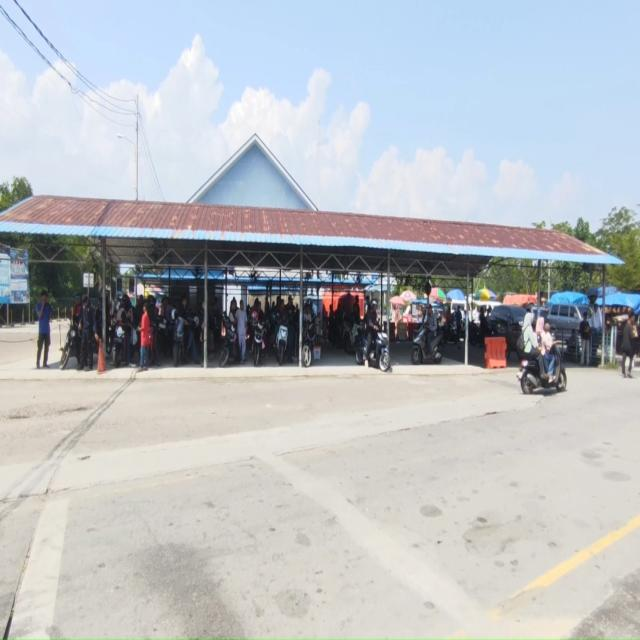Golongan II: (516, 344, 567, 395), (356, 331, 390, 372), (411, 324, 444, 365), (220, 316, 238, 368), (60, 322, 78, 370), (172, 310, 186, 367), (111, 321, 127, 368), (157, 316, 174, 357), (302, 319, 316, 367), (252, 320, 265, 367), (276, 324, 289, 366), (345, 322, 362, 354), (340, 318, 354, 352), (442, 320, 460, 344)
